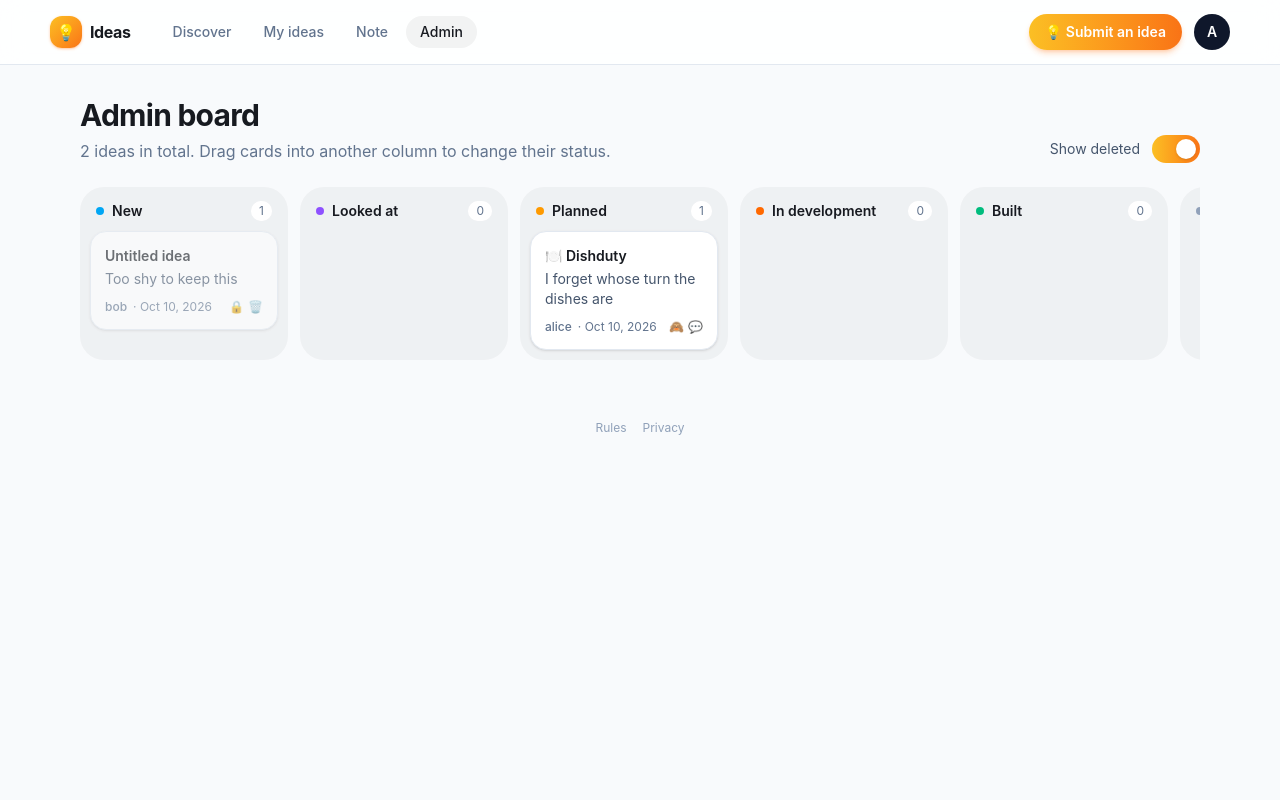
Test: ideas › shows every idea on the admin board, deleted ones marked
Expected: the text "🍽️ Dishduty" is shown, [545,247,627,264]
Expected: the text "Too shy to keep this" is shown, [105,270,238,287]
Click the switch named "Show deleted" at point(1176, 149), box [1152,135,1200,163]
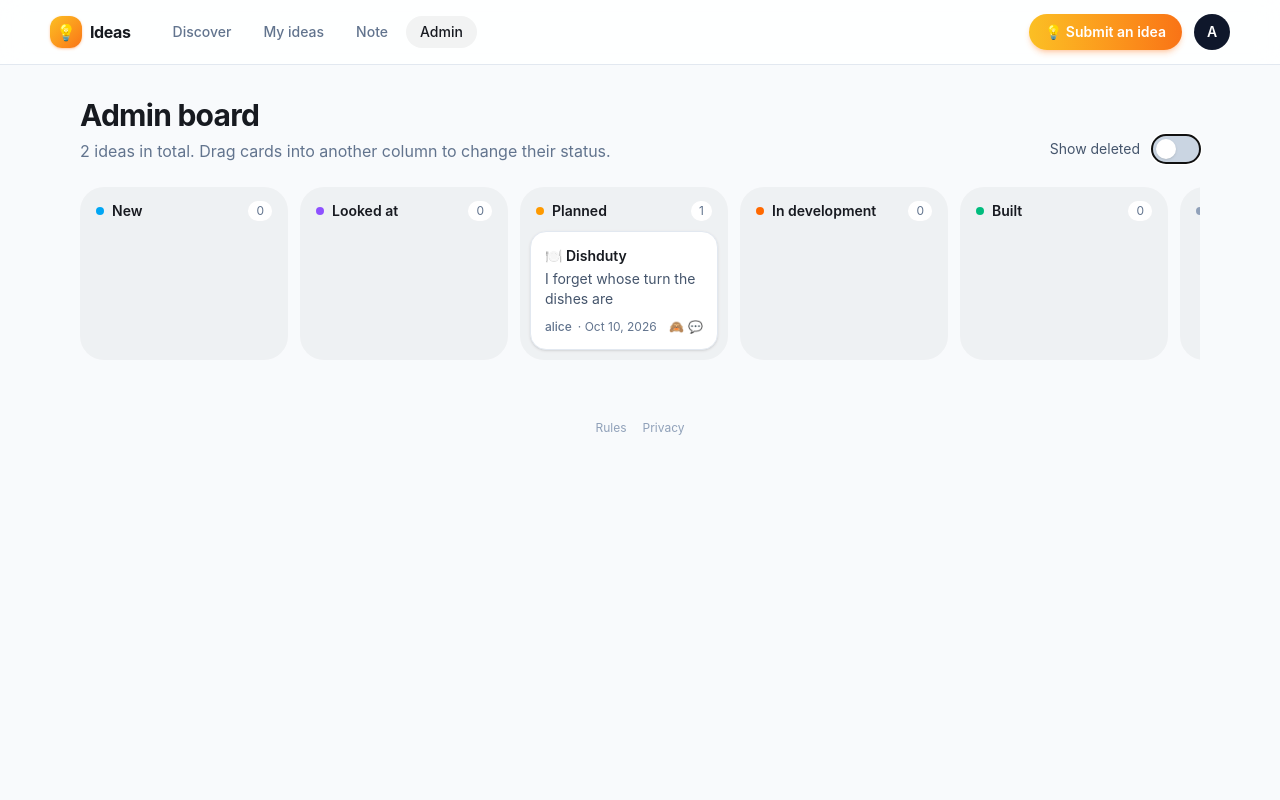
Expected: the button "Too shy to keep this" is gone
Click the text "🍽️ Dishduty" at point(586, 256), box [545,247,627,264]
(page scrolled)
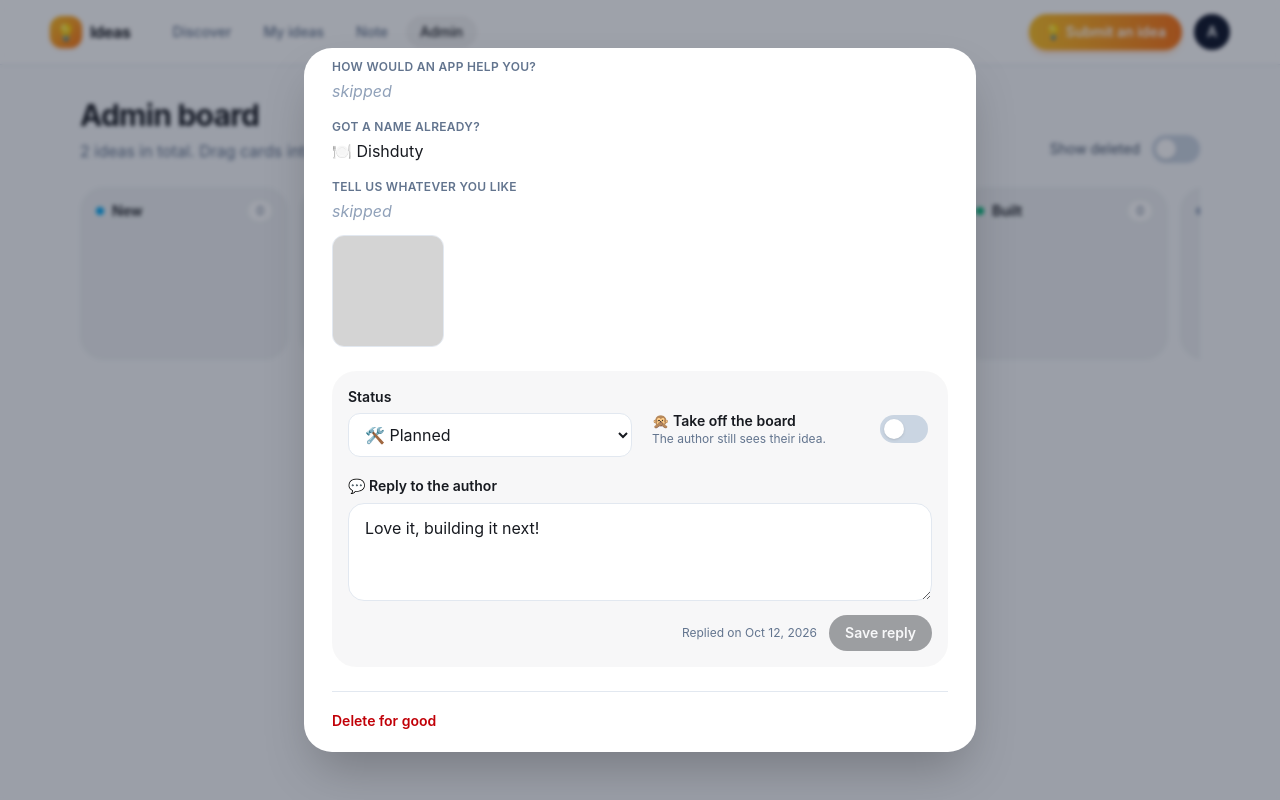
Expected: the dropdown labelled "Status" shows "🛠️ Planned", [348,413,632,457]
Expected: the text box labelled "💬 Reply to the author" holds "Love it, building it next!", [348,503,932,601]
